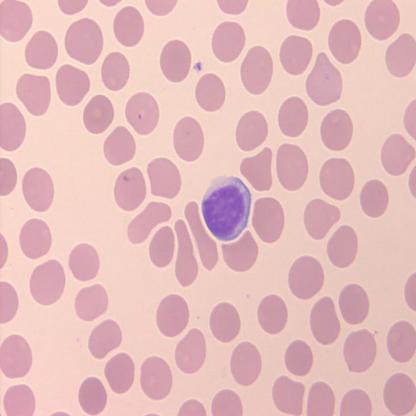Lymphocyte: (200, 172, 252, 243)
